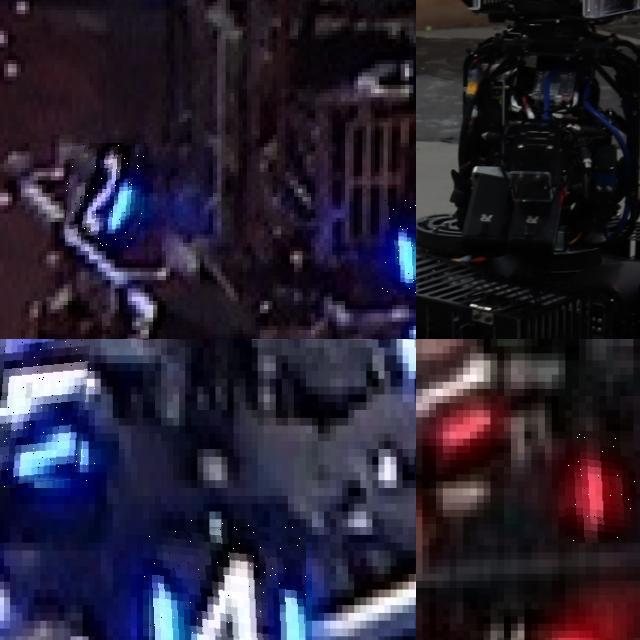B2: (65, 143, 147, 247), (379, 195, 416, 294)
B4: (143, 519, 306, 640), (0, 339, 94, 488)
R1: (565, 431, 640, 545)
